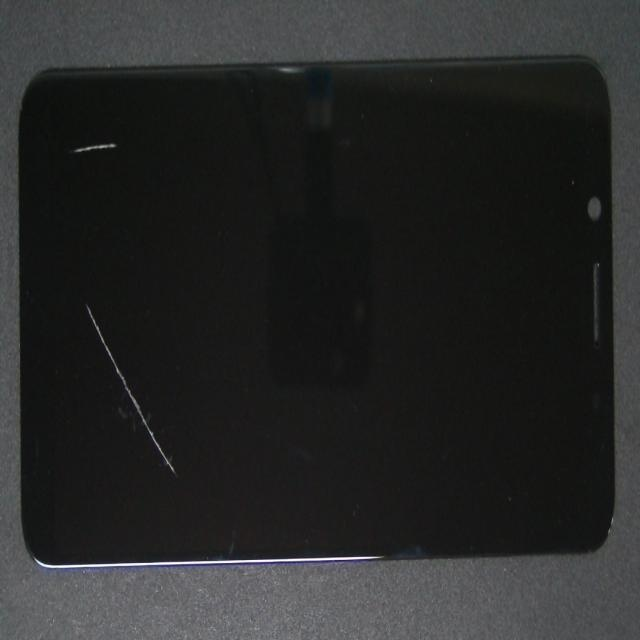scratch: (147, 347, 235, 629), (94, 78, 164, 202)
